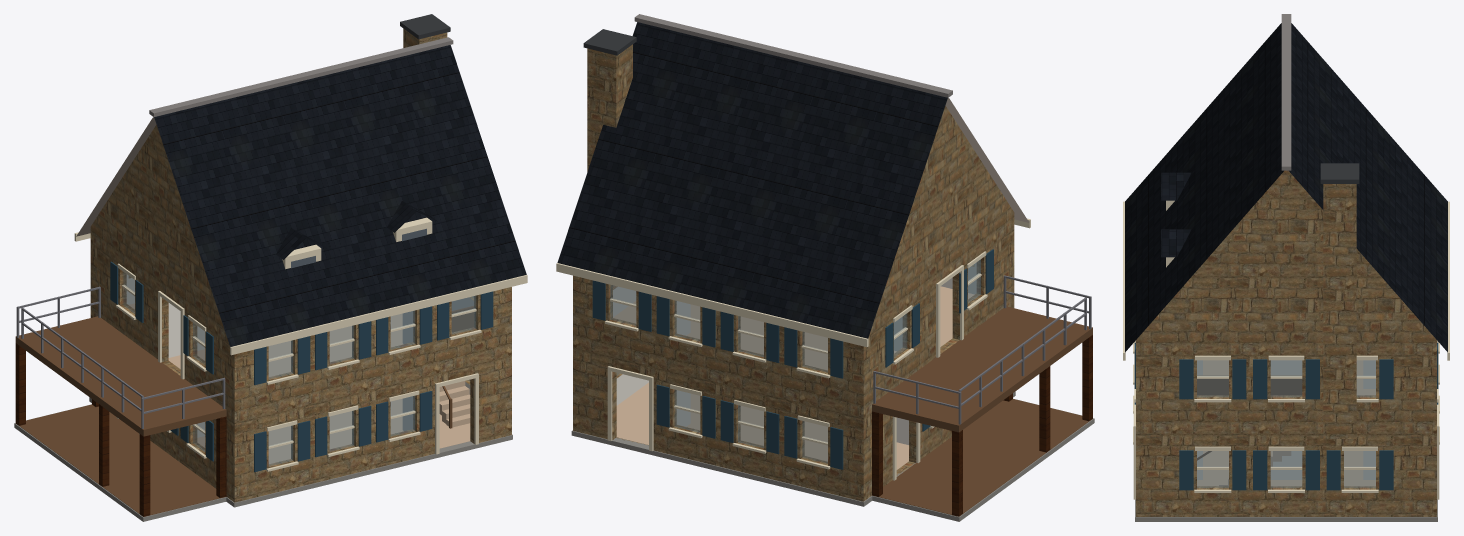
File: rw-stone-cottage.towns-v1.lod0.glb
3 renders of one model, left to right at view 1: azimuth 30°, elevation 25°; view 2: azimuth 150°, elevation 25°; view 3: azimuth 270°, elevation 25°, orthographic. The views are drawn at different scales.
Visible parts, largest first — view 1: rw-stone-cottage; view 2: rw-stone-cottage; view 3: rw-stone-cottage.
Boxes of the visible parts, <box> form: rw-stone-cottage: <box>14,14,527,521</box>; rw-stone-cottage: <box>556,14,1094,521</box>; rw-stone-cottage: <box>1123,14,1449,521</box>.
Bounding box in the file's own units: 14.01 × 11.9 × 9.78.
7 materials, 3 textured.
